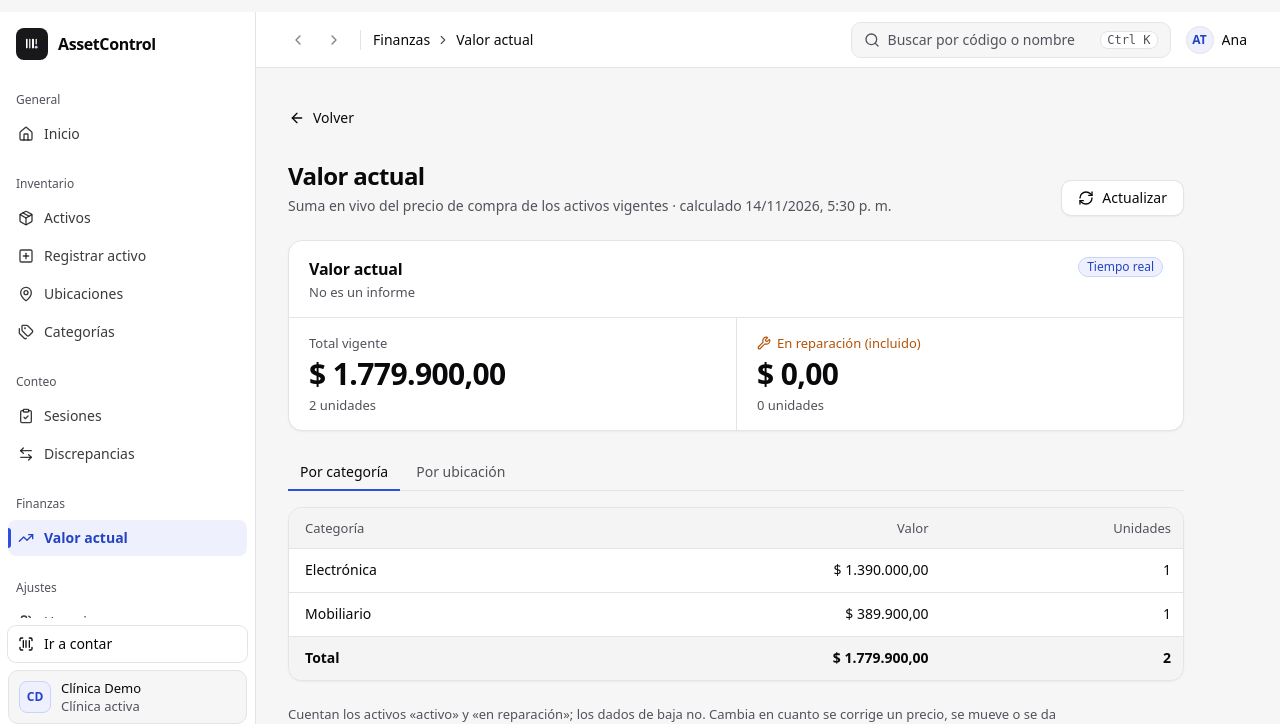
Test case: Valor actual (spec 008, T6) › «Actualizar» vuelve a pedir el valor y refleja un cambio de precio
Expected: the element "Valor actual" is shown, [288,240,1184,431]
Click the button "Actualizar". click: (1123, 198)
box: [1061,180,1184,216]
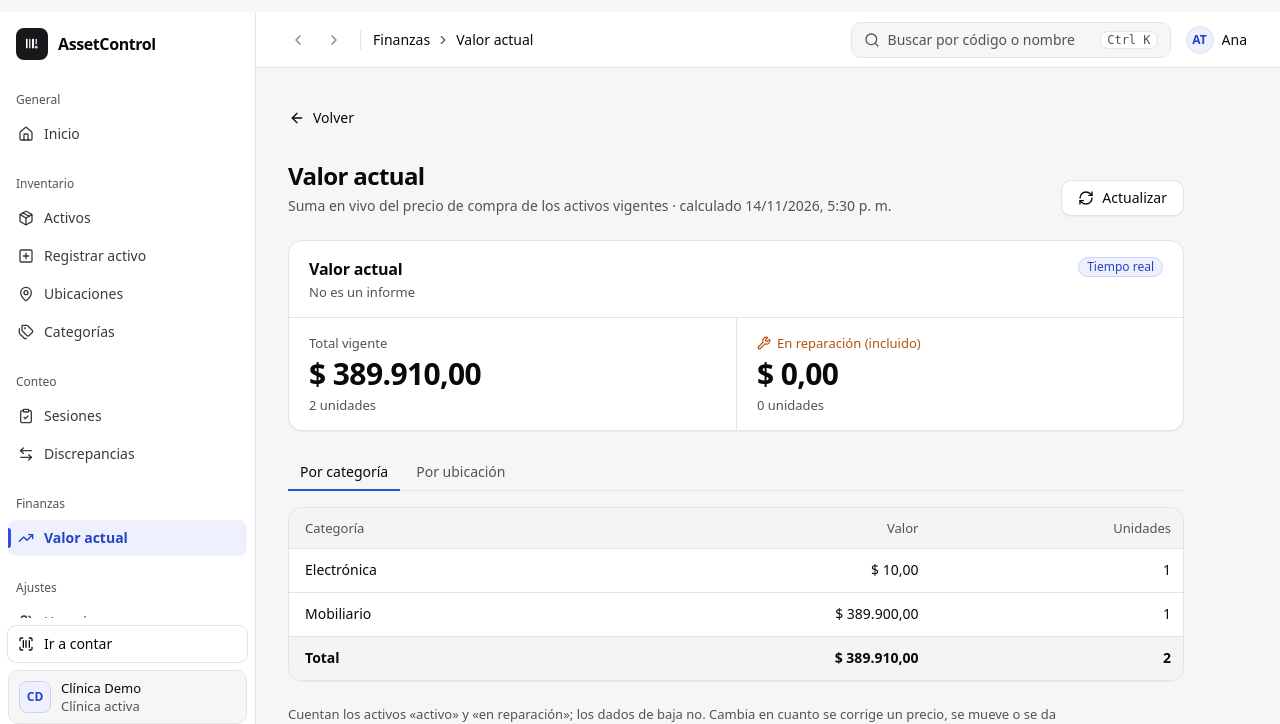
Expected: the element "Valor actual" shows "$ 389.910,00", [309,353,481,394]
